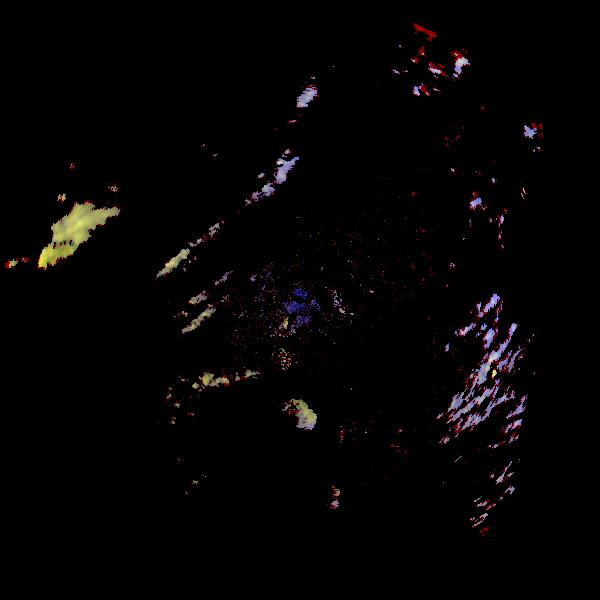roost: (284, 396, 311, 423), (292, 406, 319, 433)
